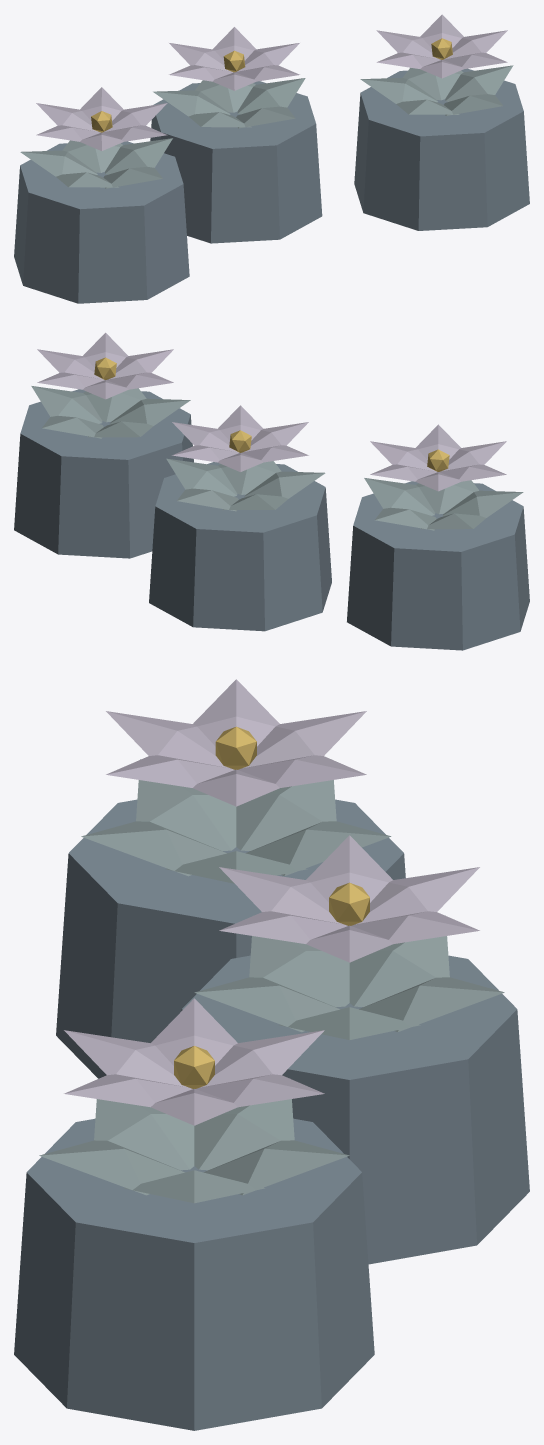
File: map-exclusive-v3__grave_14.glb
3 views of the same model, one above another, from view 1: azimuth 30°, elevation 25°; view 2: azimuth 150°, elevation 25°; view 3: azimuth 270°, elevation 25° (orthographic). The views are drawn at different scales.
Parts seen in each view (by area): view 1: grave_14; view 2: grave_14; view 3: grave_14.
Part boxes in pixels (x1,y1,x2,y2): grave_14: [14, 14, 529, 303]; grave_14: [14, 332, 529, 650]; grave_14: [14, 679, 529, 1430].
Bounding box in the file's own units: 2.66 × 0.8126 × 1.23.
